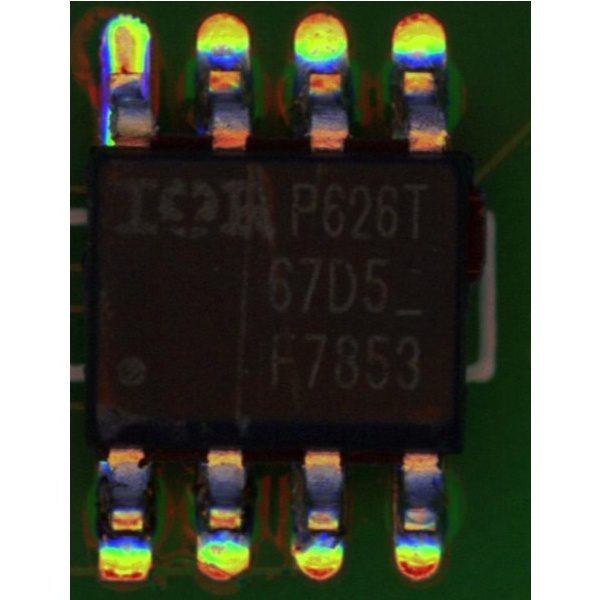Bad_podu: (115, 50, 135, 80)
